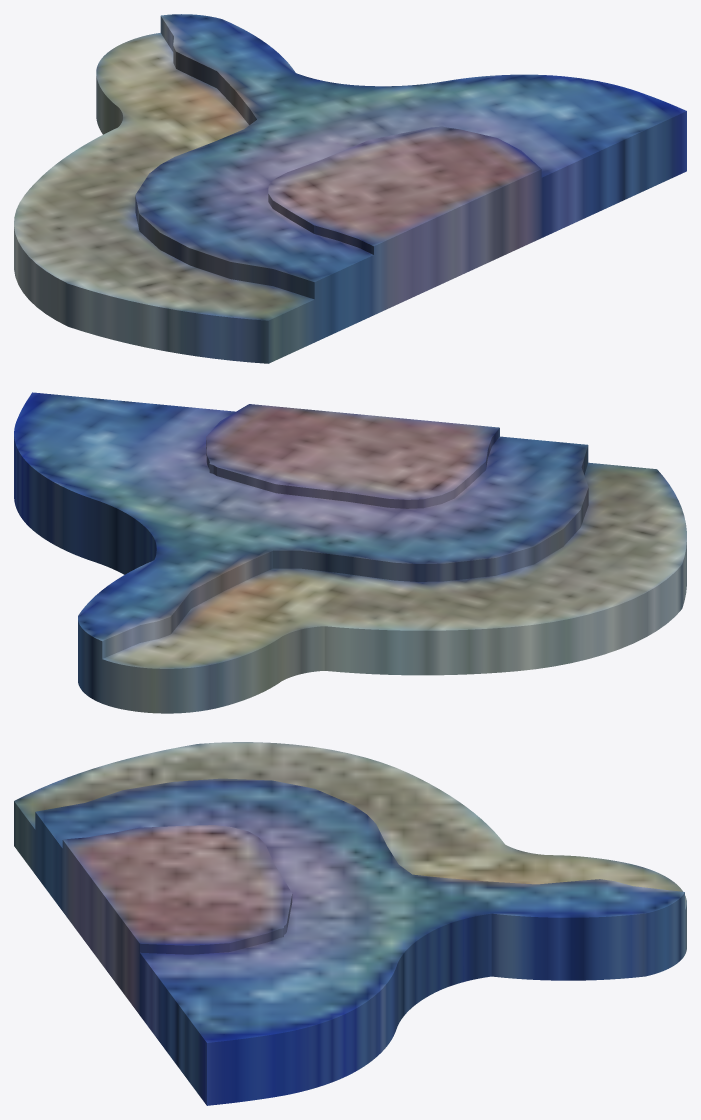
Rendered from El origen de nuestra 11.dae.
3 views of the same model, one above another, from view 1: azimuth 30°, elevation 25°; view 2: azimuth 150°, elevation 25°; view 3: azimuth 270°, elevation 25° (orthographic). The views are drawn at different scales.
Visible parts, largest first — view 1: SketchUp; view 2: SketchUp; view 3: SketchUp.
Part boxes in pixels (x1,y1,x2,y2): SketchUp: [14, 14, 686, 363]; SketchUp: [14, 392, 686, 713]; SketchUp: [14, 742, 686, 1105].
Bounding box in the file's own units: 9.51 × 8.48 × 1.
Materials: 1 (1 with a texture image).
